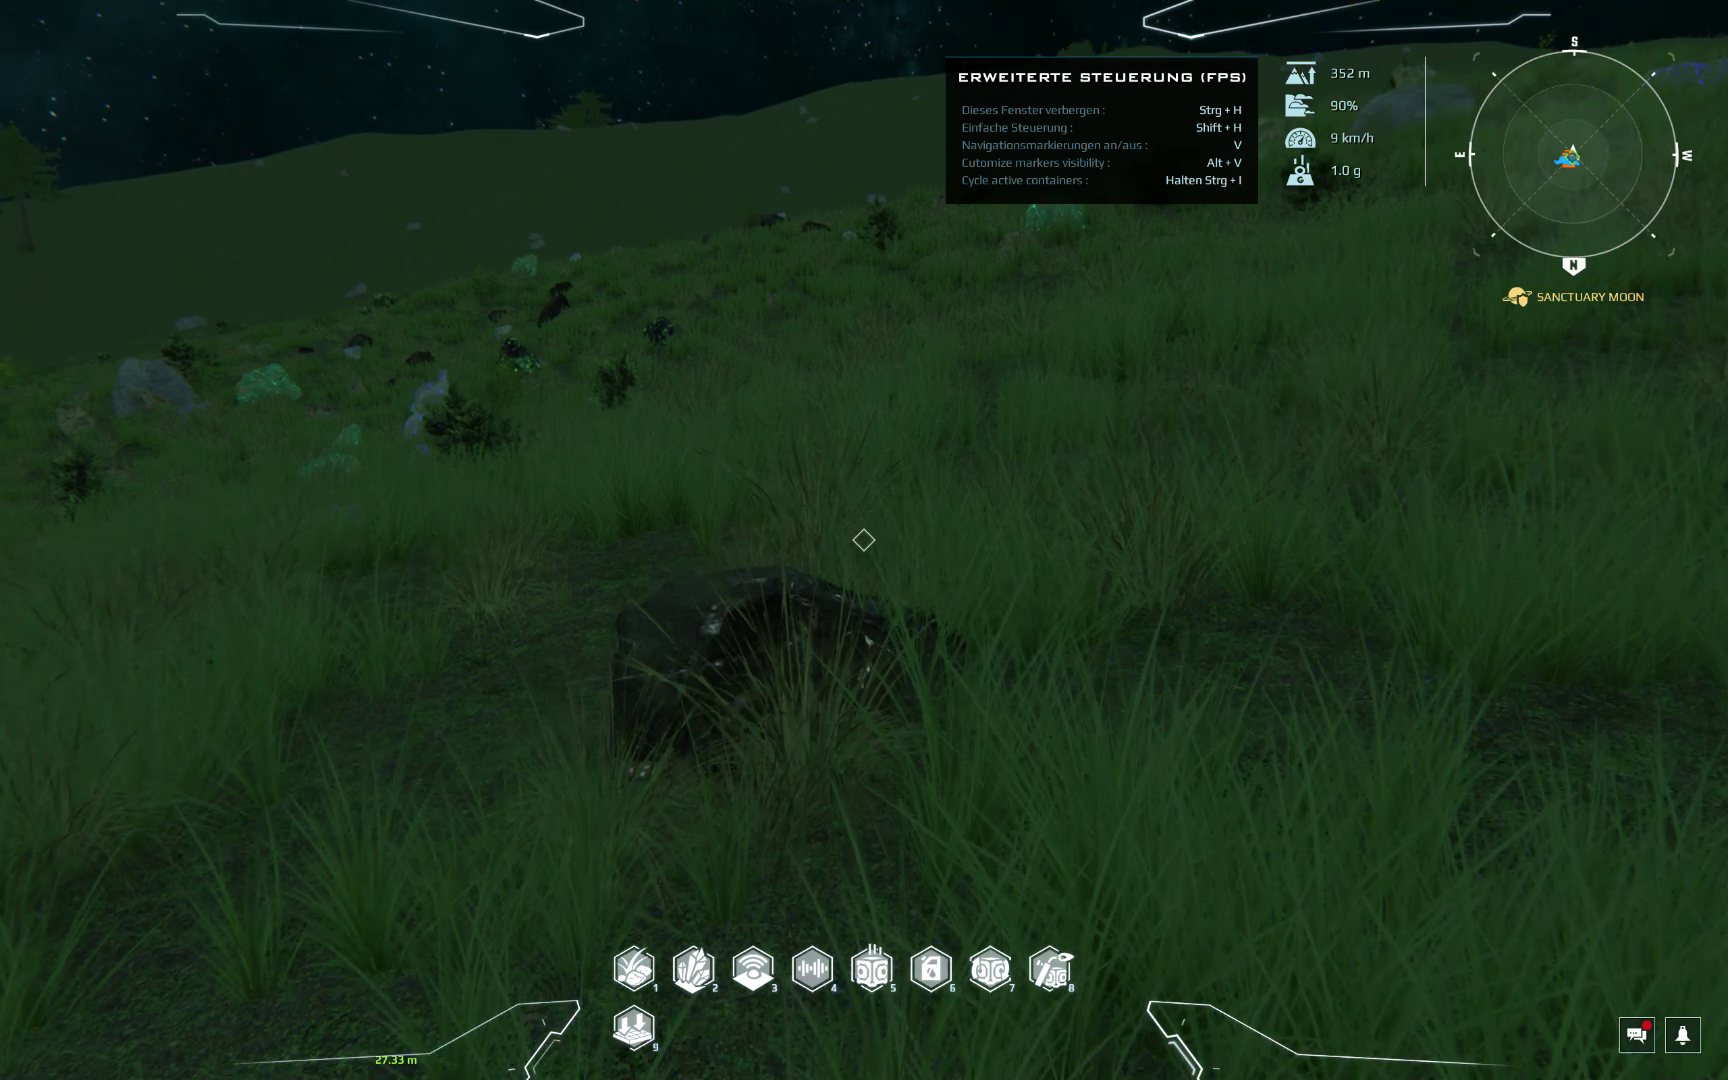Ore: (607, 562, 952, 759), (294, 423, 367, 485), (403, 370, 457, 450), (233, 362, 302, 411), (491, 335, 544, 376), (1021, 204, 1086, 234), (536, 291, 569, 330), (394, 347, 435, 377), (639, 316, 677, 345), (506, 250, 542, 277), (546, 277, 575, 299), (345, 327, 372, 347), (801, 216, 834, 231)
